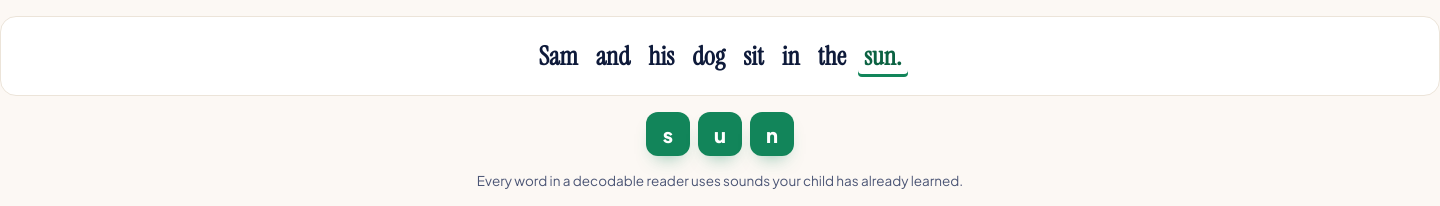
Test case: DecodableReader › flags a sight word to learn by sight instead of sounding out
This screenshot has width=1440, height=206.
What coordinates should you click on to do the following:
click the button "the"
I would click on:
 (832, 56)
Its box is [812, 35, 852, 77].
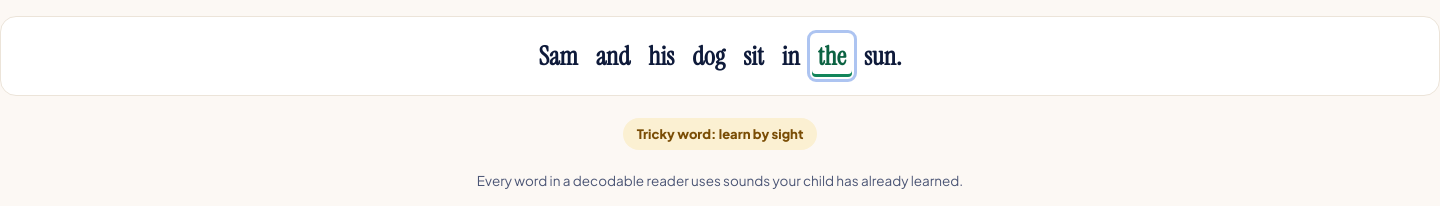
Result: the text "Tricky word: learn by sight" is shown at [623, 118, 817, 150]
